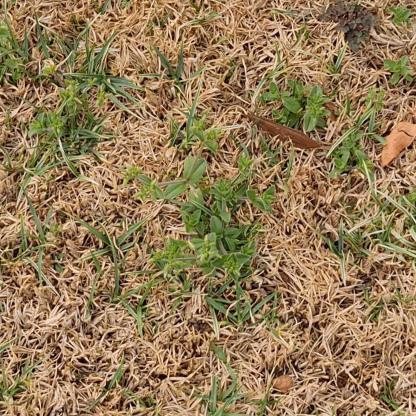Weeds: (118, 117, 277, 300), (25, 64, 109, 148), (261, 77, 329, 136), (317, 0, 378, 52), (326, 127, 372, 180), (380, 58, 415, 85), (389, 3, 414, 26)
